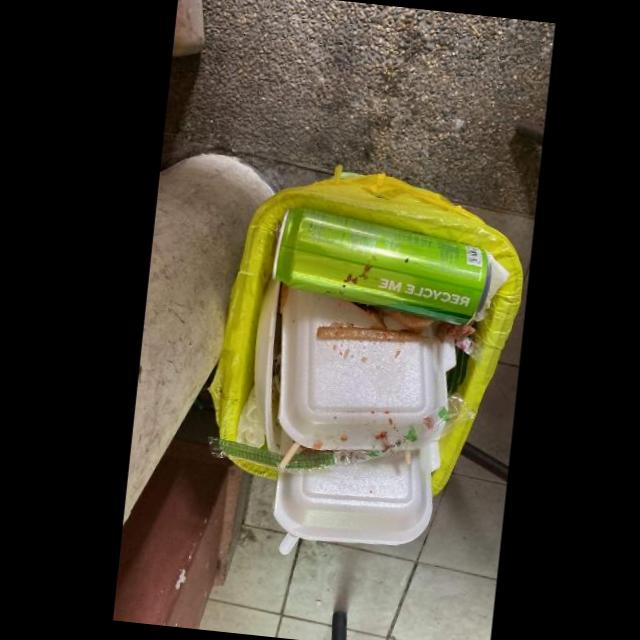nhom: (271, 207, 490, 325)
xop: (277, 287, 456, 450), (273, 440, 440, 545), (254, 278, 280, 452)
